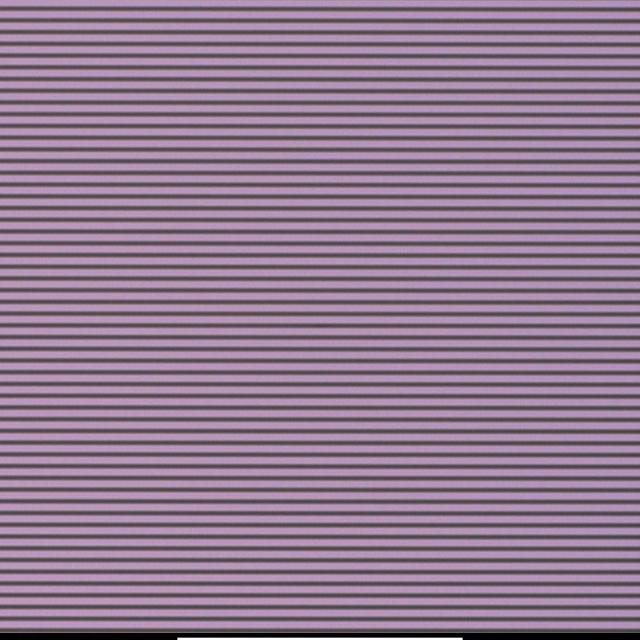03_intrusion: (310, 227, 314, 236)
